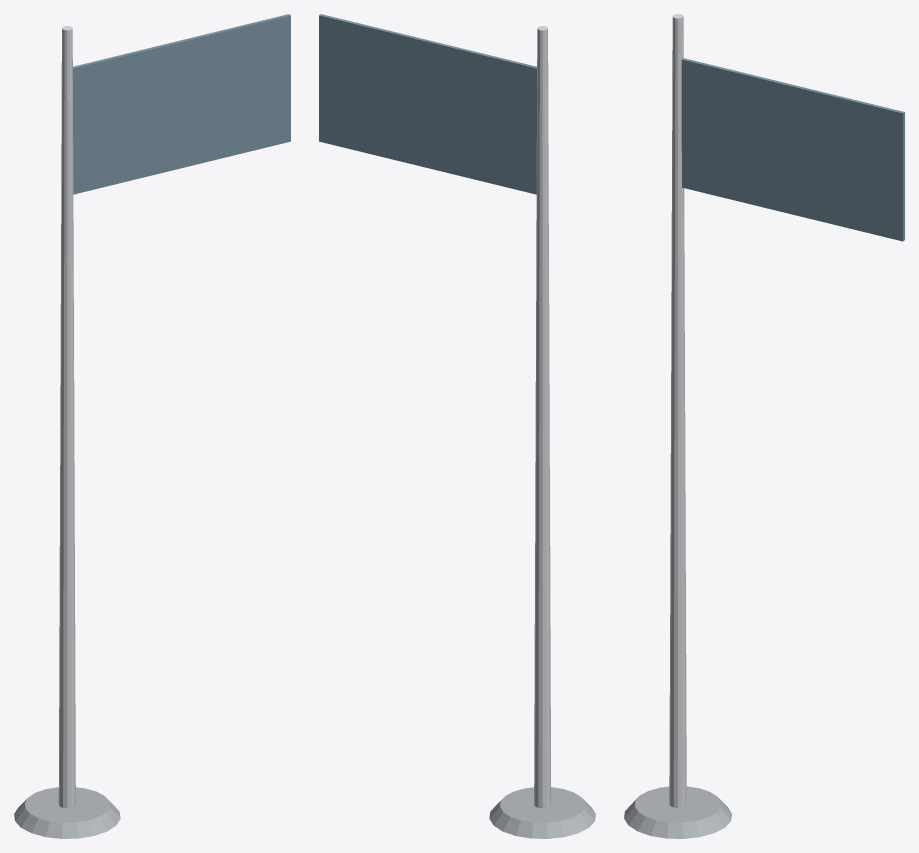
The model's file is road-car-showroom-lineup-flag-pole-7df9ce56__15145.glb.
3 views of the same model, side by side, from view 1: azimuth 30°, elevation 25°; view 2: azimuth 150°, elevation 25°; view 3: azimuth 330°, elevation 25° (orthographic).
Visible parts, largest first — view 1: flag-pole; view 2: flag-pole; view 3: flag-pole.
Part boxes in pixels (box(x1,y1,x2,y2)): flag-pole: box(14, 14, 290, 838); flag-pole: box(319, 14, 595, 838); flag-pole: box(624, 14, 904, 838).
Bounding box in the file's own units: 1.45 × 4.06 × 0.5.
